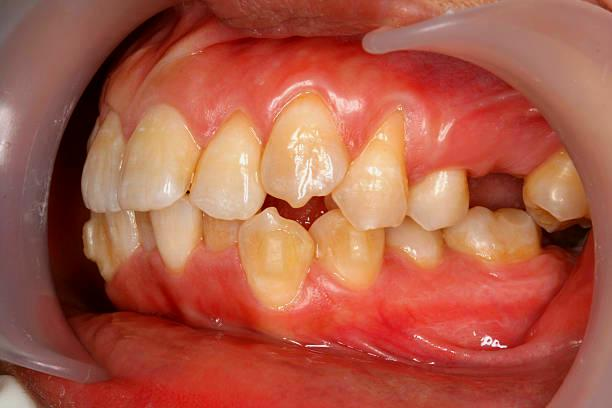Calculus: (233, 193, 314, 308), (262, 101, 353, 203), (186, 111, 262, 208), (316, 204, 393, 284), (460, 228, 557, 289)
Hypodontia: (468, 150, 546, 218)
